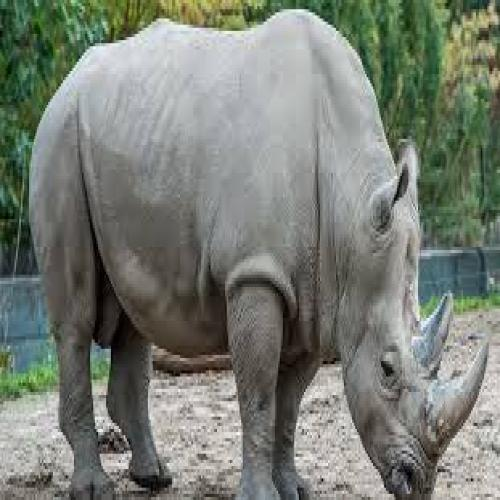rhino-endangered: (37, 20, 484, 492)
